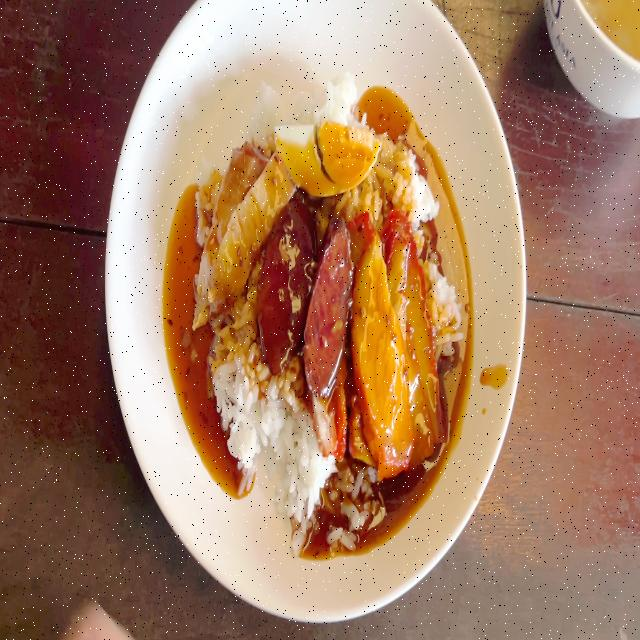boiled_egg: (274, 118, 376, 196)
chainese_sausage: (262, 222, 352, 374)
crispy_pork: (192, 150, 291, 310)
red_pork: (349, 230, 438, 452)
red_pork_and_crispy_pork: (196, 78, 460, 554)
rice: (216, 319, 268, 474), (274, 393, 318, 514)
